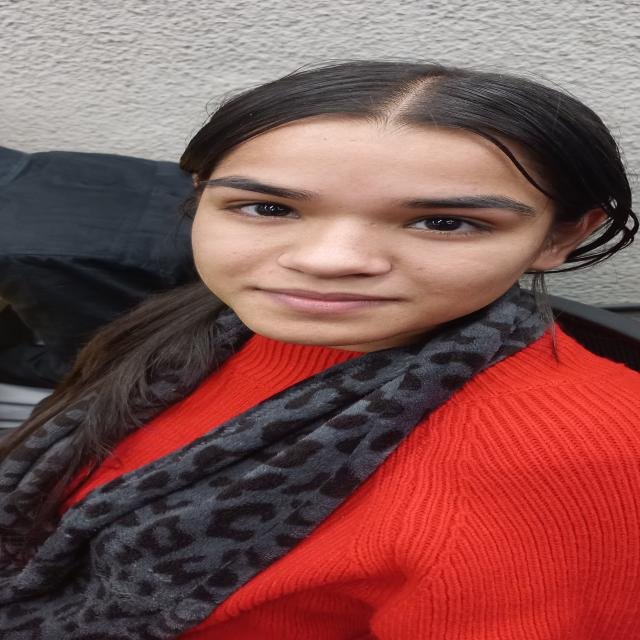Acne: (272, 234, 298, 254)
